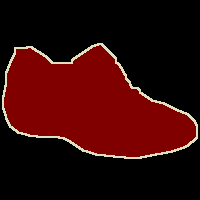shoe: (3, 43, 197, 158)
